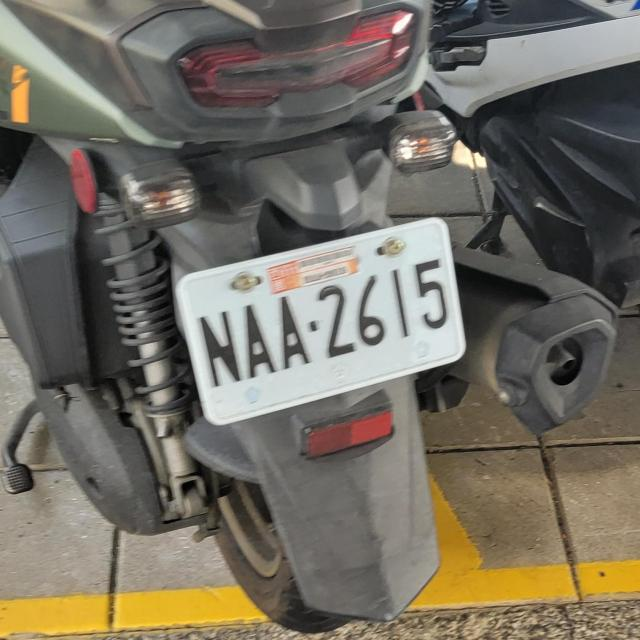W: (167, 209, 478, 434)
